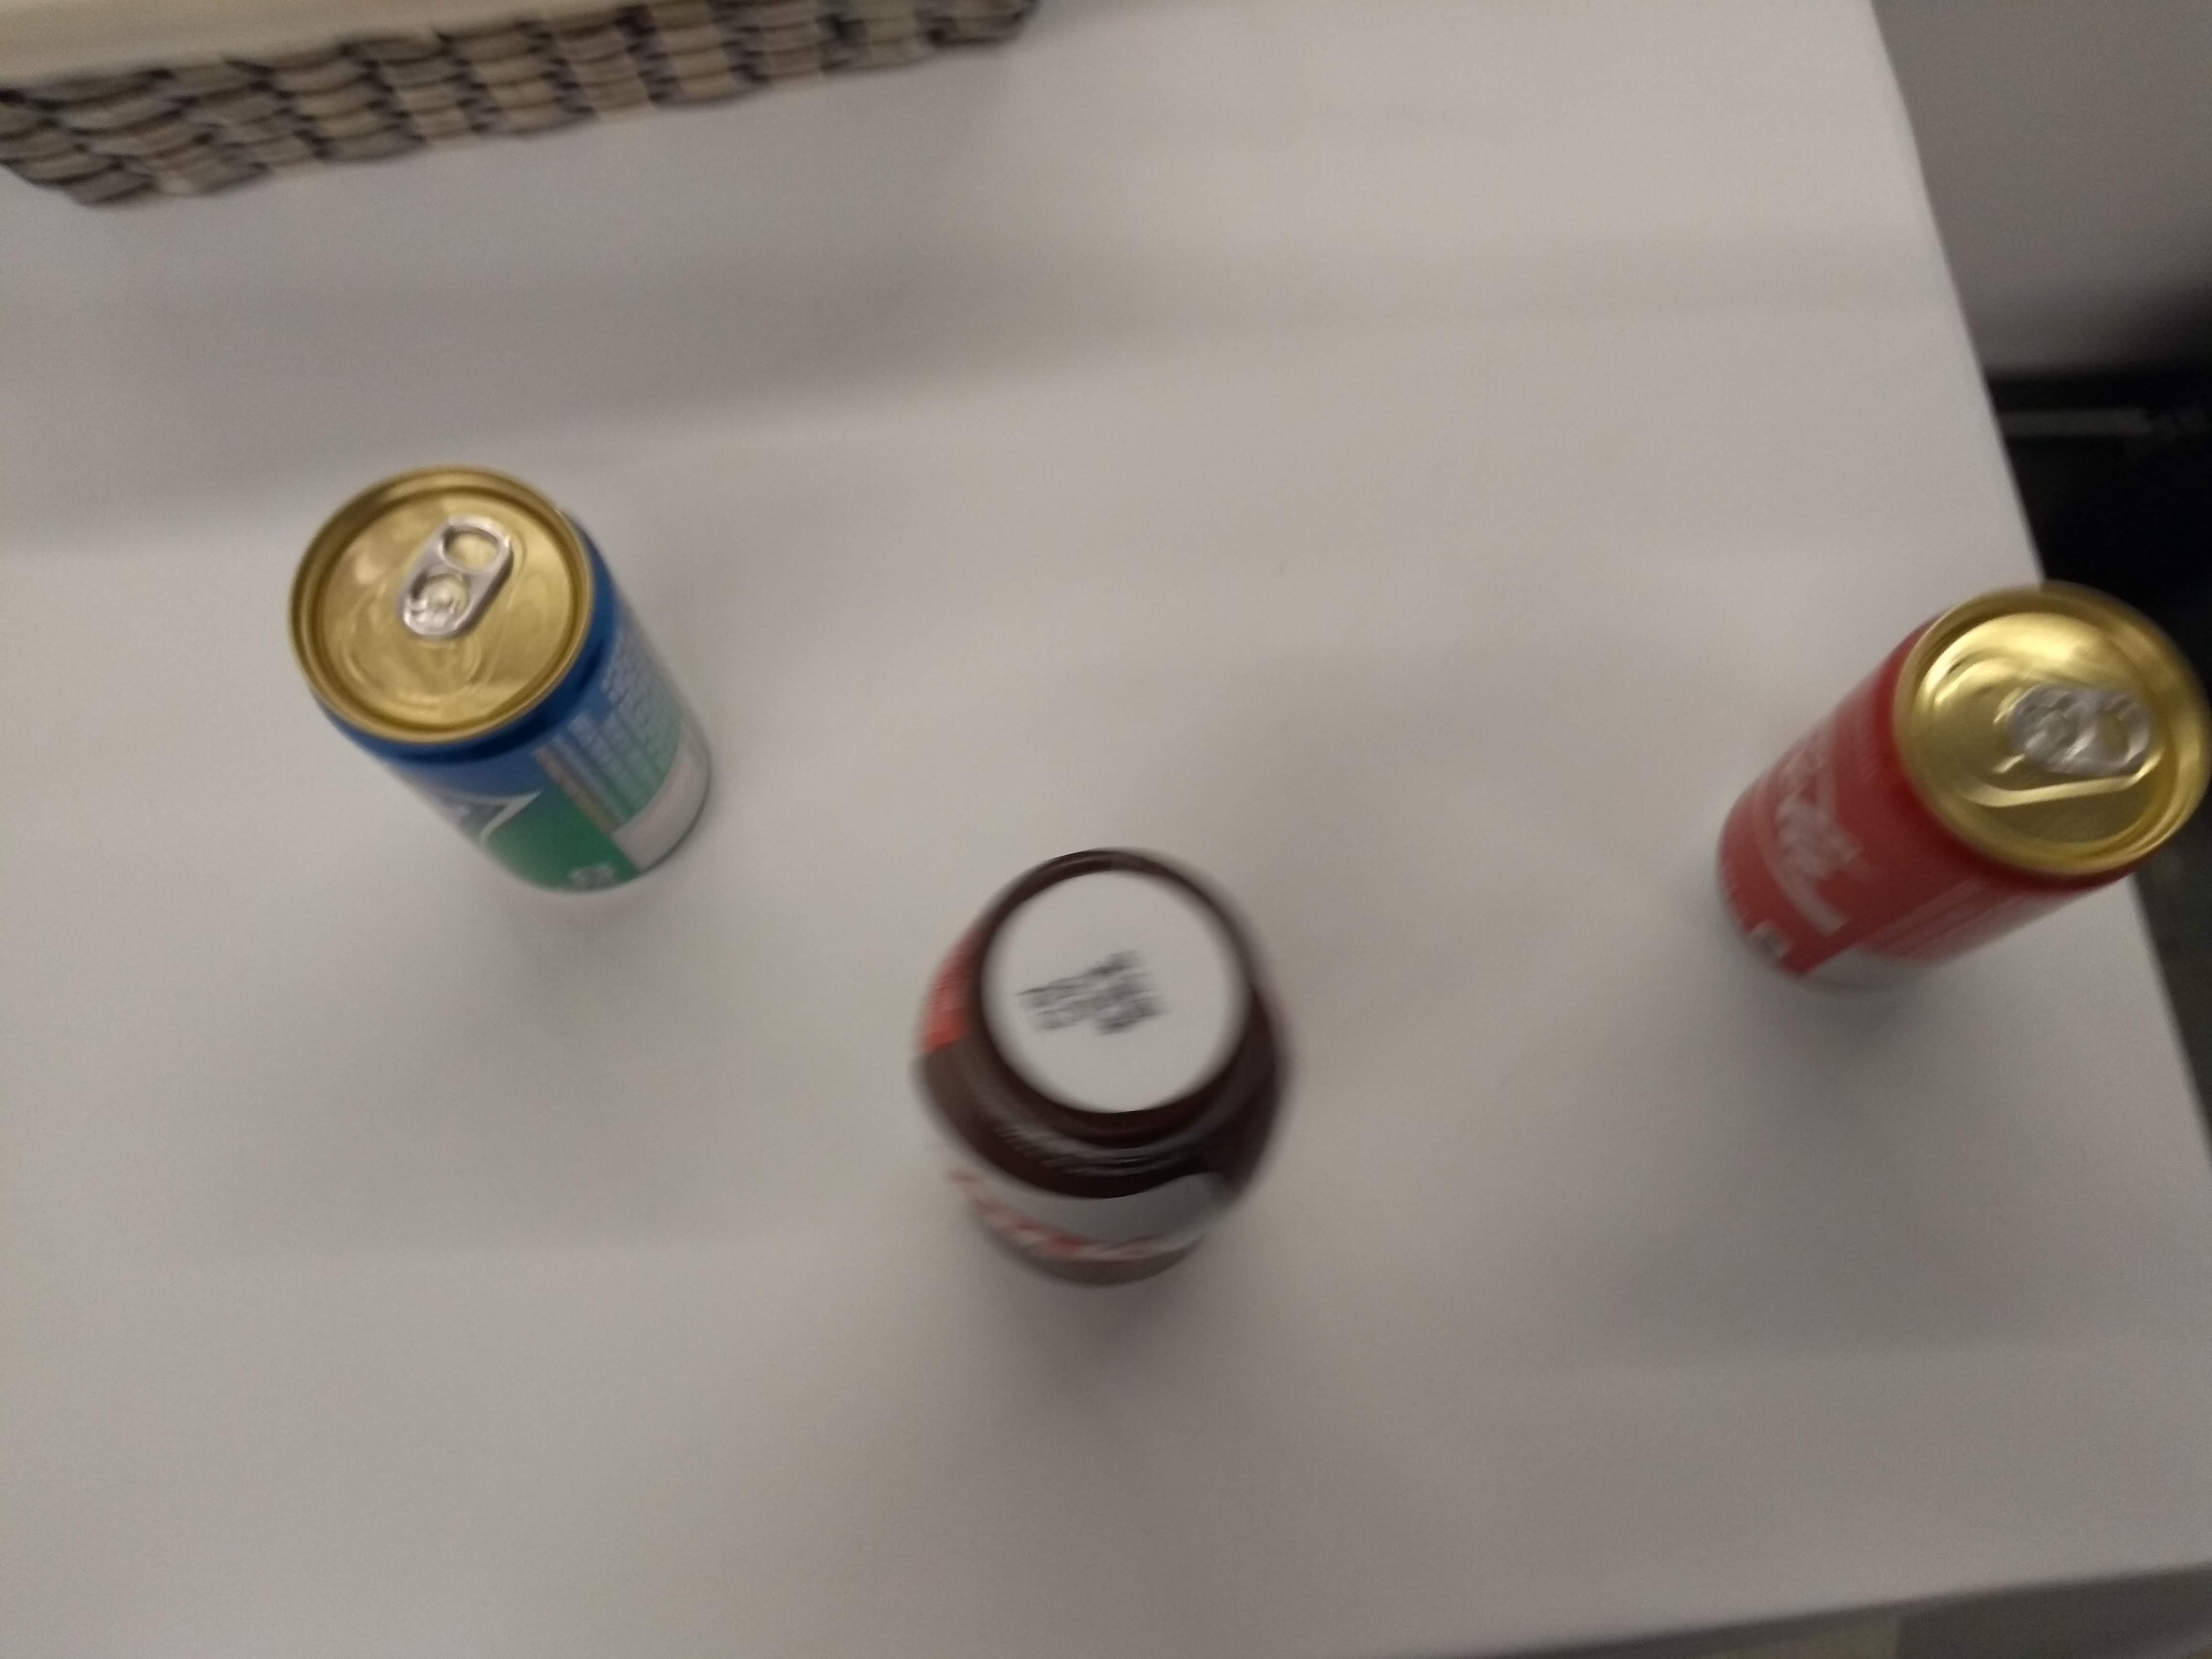chocolate_drink: (888, 831, 1317, 1309)
coke: (1702, 566, 2210, 1011)
sprite: (273, 451, 733, 910)
